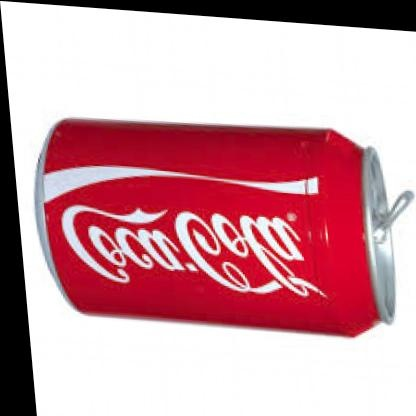trash: (36, 119, 411, 335)
